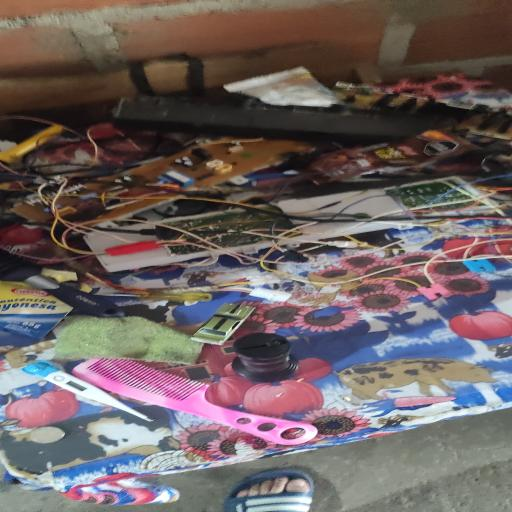Carrito: (190, 303, 255, 345)
